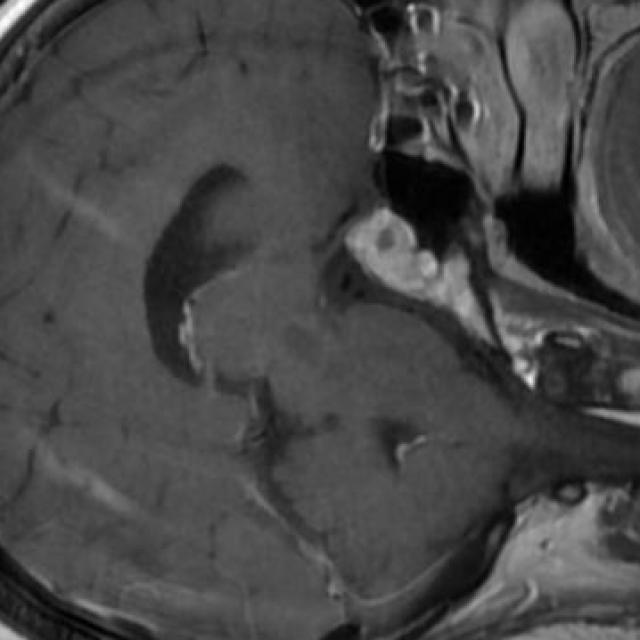pituitary: (346, 209, 417, 278)
